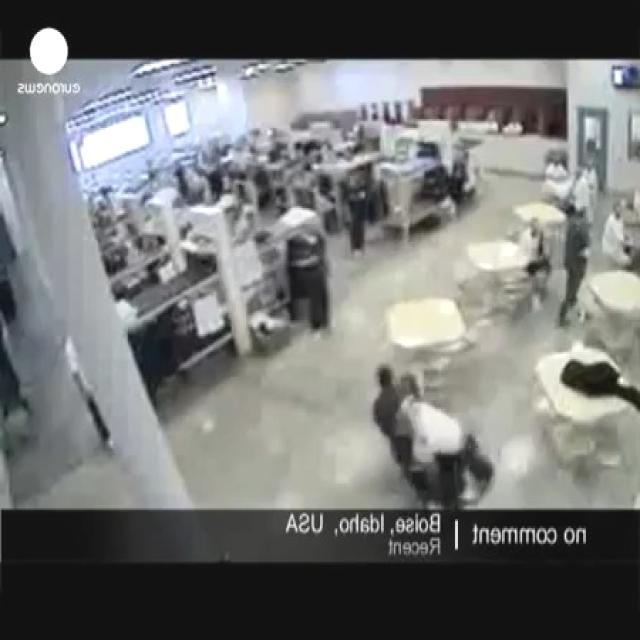fight: (370, 357, 496, 506)
